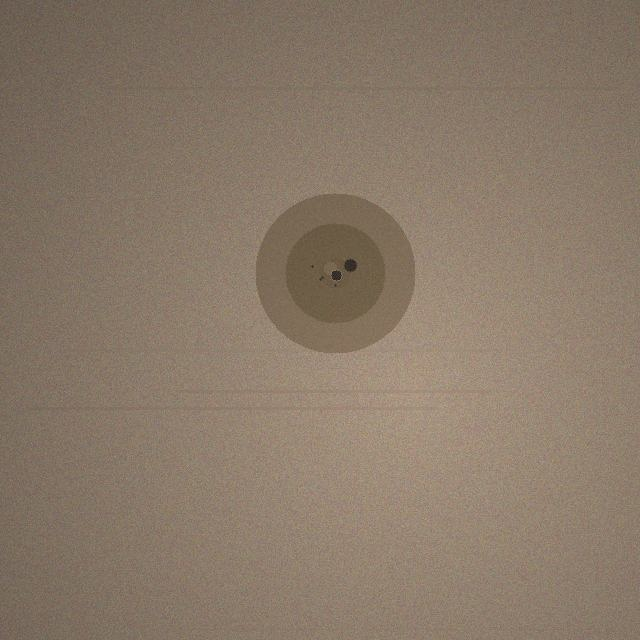shrinkage: (255, 193, 415, 353)
